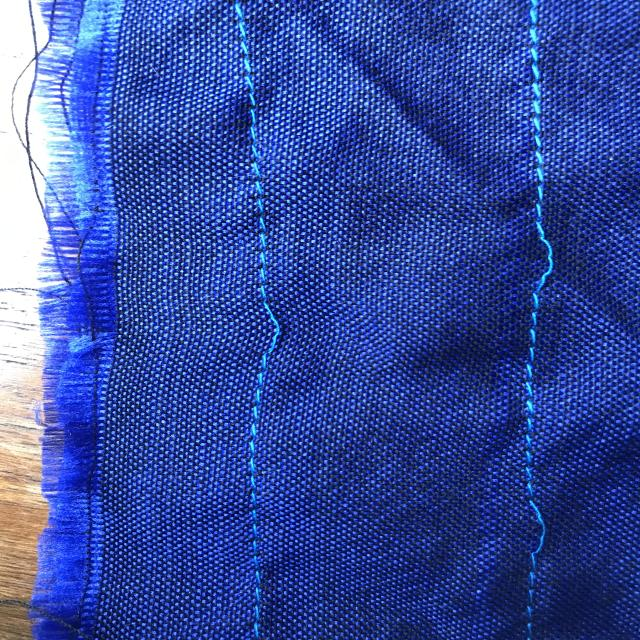skip: (222, 280, 314, 370), (498, 484, 580, 566), (510, 206, 574, 304)
